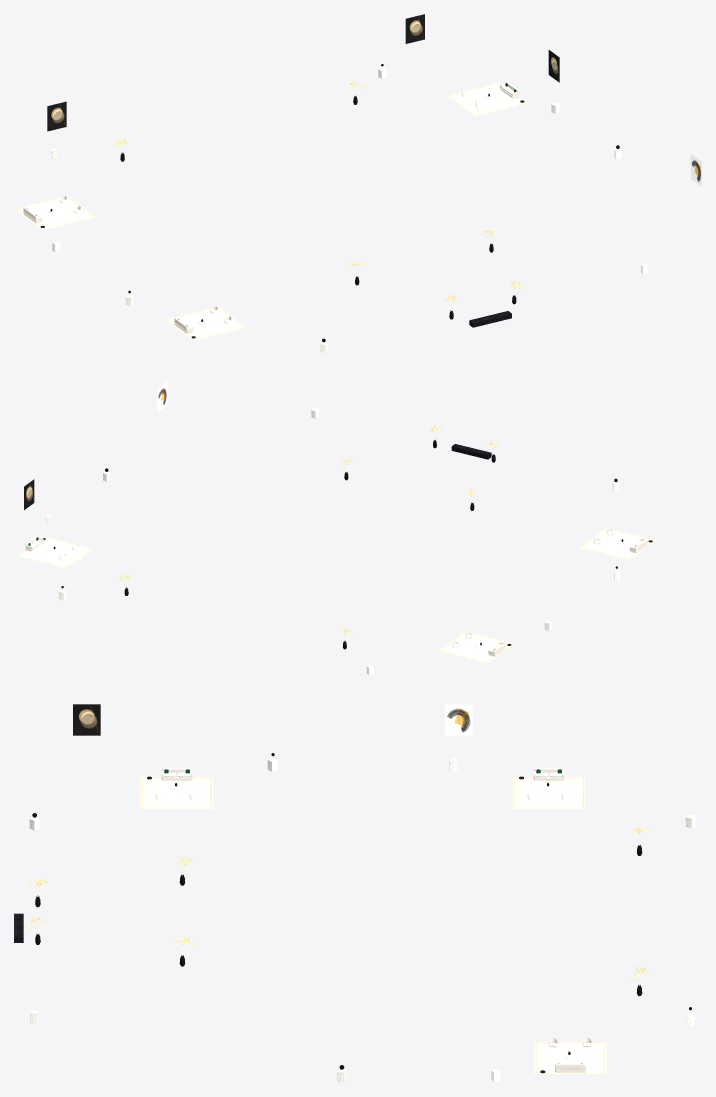
File: tb_decor_p2.glb
The picture shows the model from 3 angles, top to bottom: view 1: azimuth 30°, elevation 25°; view 2: azimuth 150°, elevation 25°; view 3: azimuth 270°, elevation 25°; orthographic projection. The views are drawn at different scales.
Visible parts, largest first — view 1: tb_decor_p2; view 2: tb_decor_p2; view 3: tb_decor_p2.
Boxes of the visible parts, left/top/right/bottom form: tb_decor_p2: left=14, top=14, right=701, bottom=352; tb_decor_p2: left=17, top=382, right=655, bottom=675; tb_decor_p2: left=14, top=704, right=695, bottom=1082.
Bounding box in the file's own units: 71.75 × 6.82 × 64.72.
Materials: 12 (8 with a texture image).
